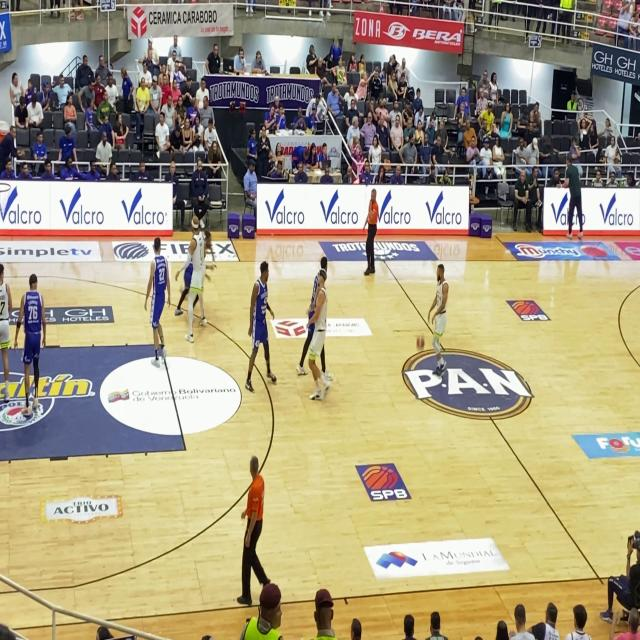Ball: (416, 331, 429, 356)
referee: (232, 452, 271, 605), (352, 170, 386, 286)
team1: (420, 258, 461, 381), (176, 208, 207, 344), (308, 270, 332, 410), (0, 257, 14, 416)
team2: (238, 249, 280, 401), (11, 269, 52, 422), (140, 230, 173, 373), (300, 249, 327, 384)
